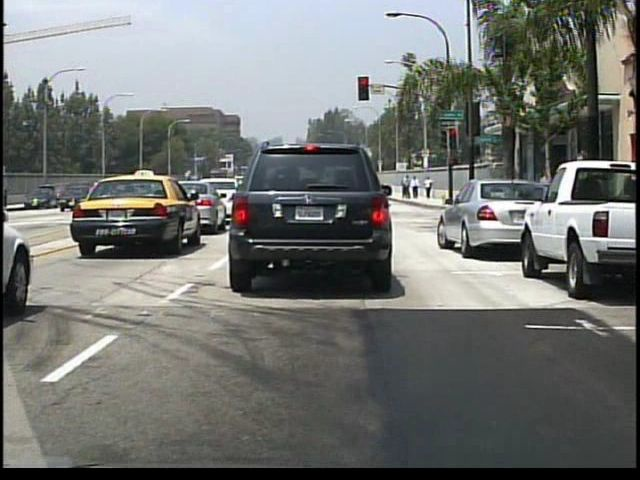person: (536, 169, 557, 221), (424, 174, 434, 200), (402, 174, 411, 199), (411, 175, 420, 200)
